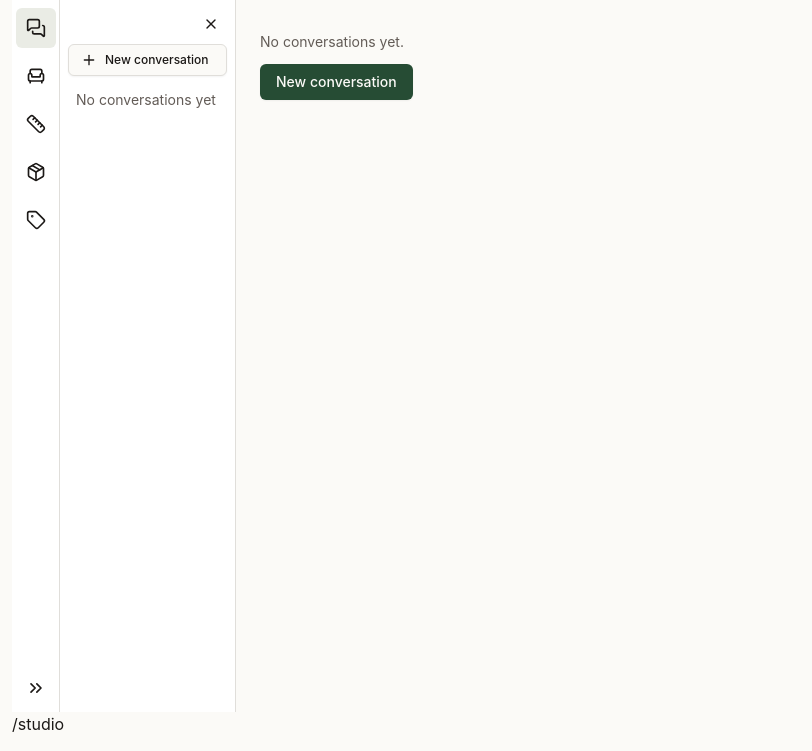
Test case: choosing Pieces shows the piece tiles with the pieces listed (Pieces first)
Click the tab named "Pieces": (36, 76) [26,66,46,86]
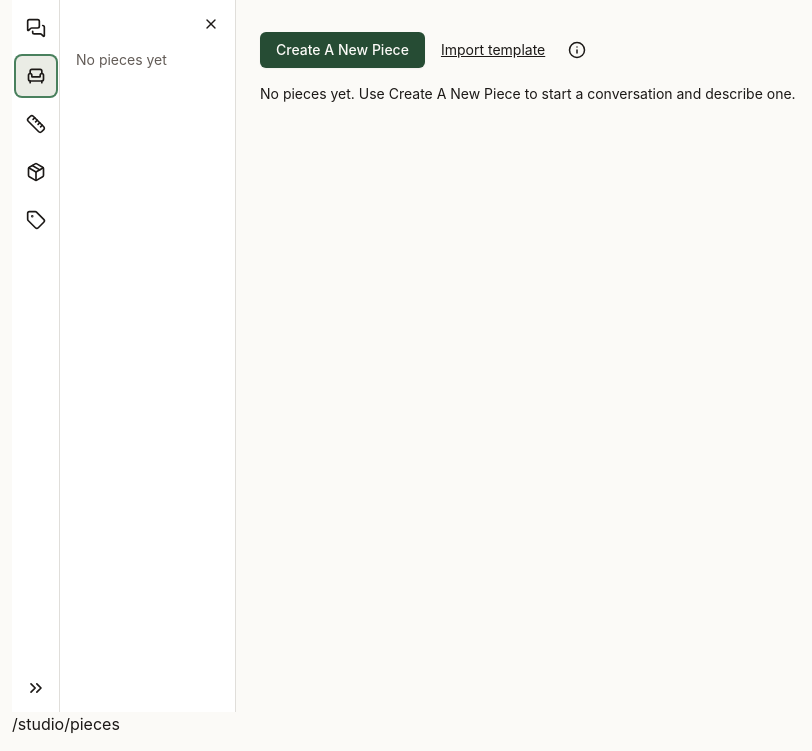
Now the button "Create A New Piece" is shown, box [260,32,425,68]
Now the text "No pieces yet" is shown, box [76,51,167,68]
